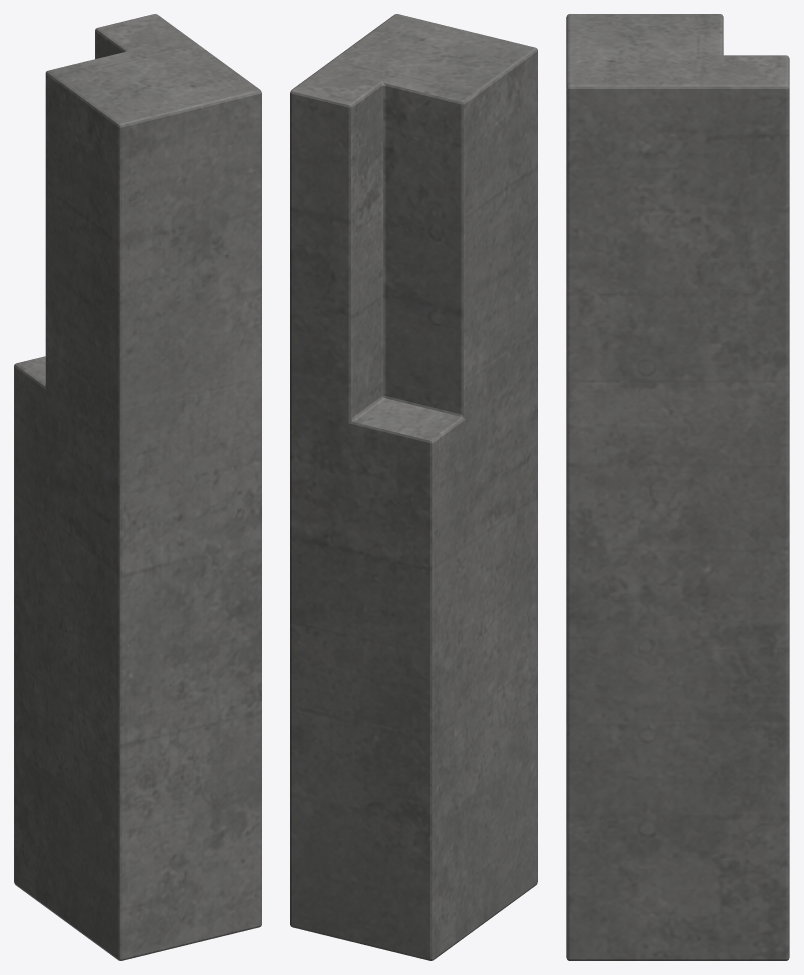
The model's file is SM_GarageConcrete_FrameRight.fbx.
3 renders of one model, left to right at view 1: azimuth 30°, elevation 25°; view 2: azimuth 150°, elevation 25°; view 3: azimuth 270°, elevation 25°, orthographic. The views are drawn at different scales.
Visible parts, largest first — view 1: SM_GarageConcrete_FrameRight; view 2: SM_GarageConcrete_FrameRight; view 3: SM_GarageConcrete_FrameRight.
Boxes of the visible parts, <box> form: SM_GarageConcrete_FrameRight: <box>14,14,261,960</box>; SM_GarageConcrete_FrameRight: <box>290,14,537,960</box>; SM_GarageConcrete_FrameRight: <box>566,14,789,960</box>.
Size of the model in its own units: 35 by 45 by 195.
